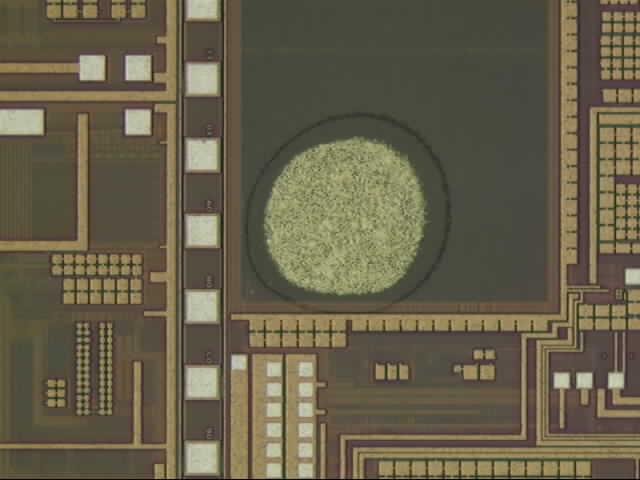BLOCK ETCH: (242, 111, 457, 321)
